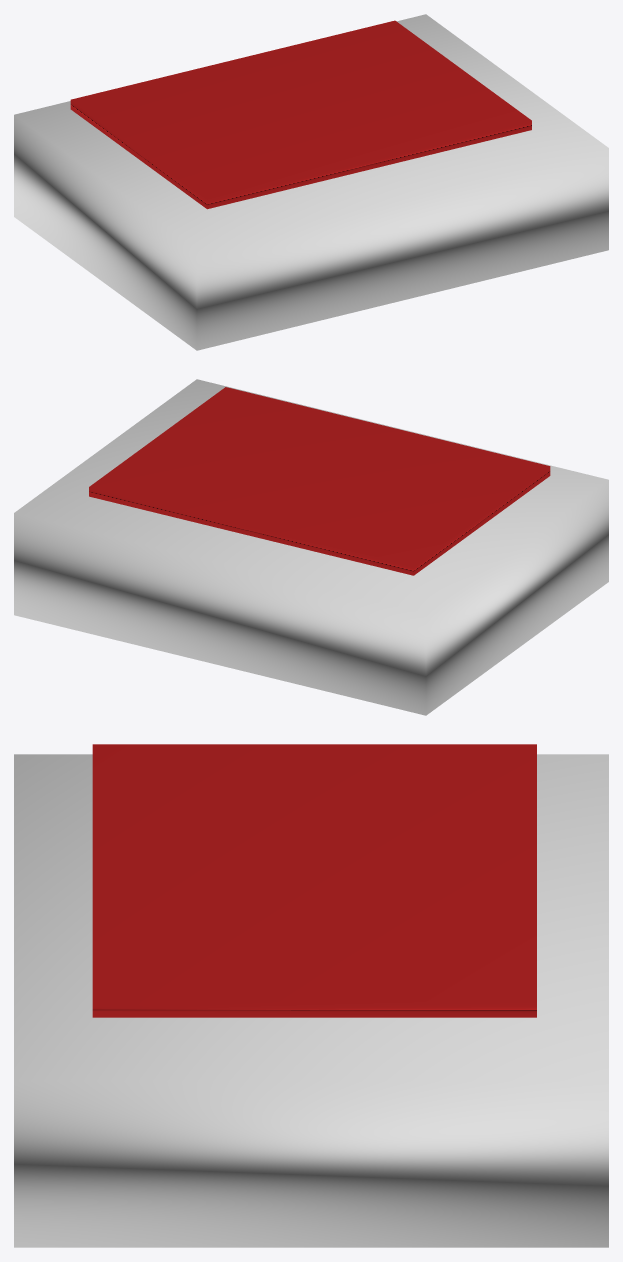
Rendered from plataformatipo4 1.fbx.
The picture shows the model from 3 angles, top to bottom: view 1: azimuth 30°, elevation 25°; view 2: azimuth 150°, elevation 25°; view 3: azimuth 270°, elevation 25°; orthographic projection. The views are drawn at different scales.
Visible parts, largest first — view 1: group181_pasted__group180_pasted__pasted__group179_pasted__p; view 2: group181_pasted__group180_pasted__pasted__group179_pasted__p; view 3: group181_pasted__group180_pasted__pasted__group179_pasted__p.
Part boxes in pixels (box(x1,y1,x2,y2)): group181_pasted__group180_pasted__pasted__group179_pasted__p: box(14, 14, 608, 350); group181_pasted__group180_pasted__pasted__group179_pasted__p: box(14, 379, 608, 715); group181_pasted__group180_pasted__pasted__group179_pasted__p: box(14, 744, 608, 1247).
Bounding box in the file's own units: 50.54 × 14.65 × 38.85.
